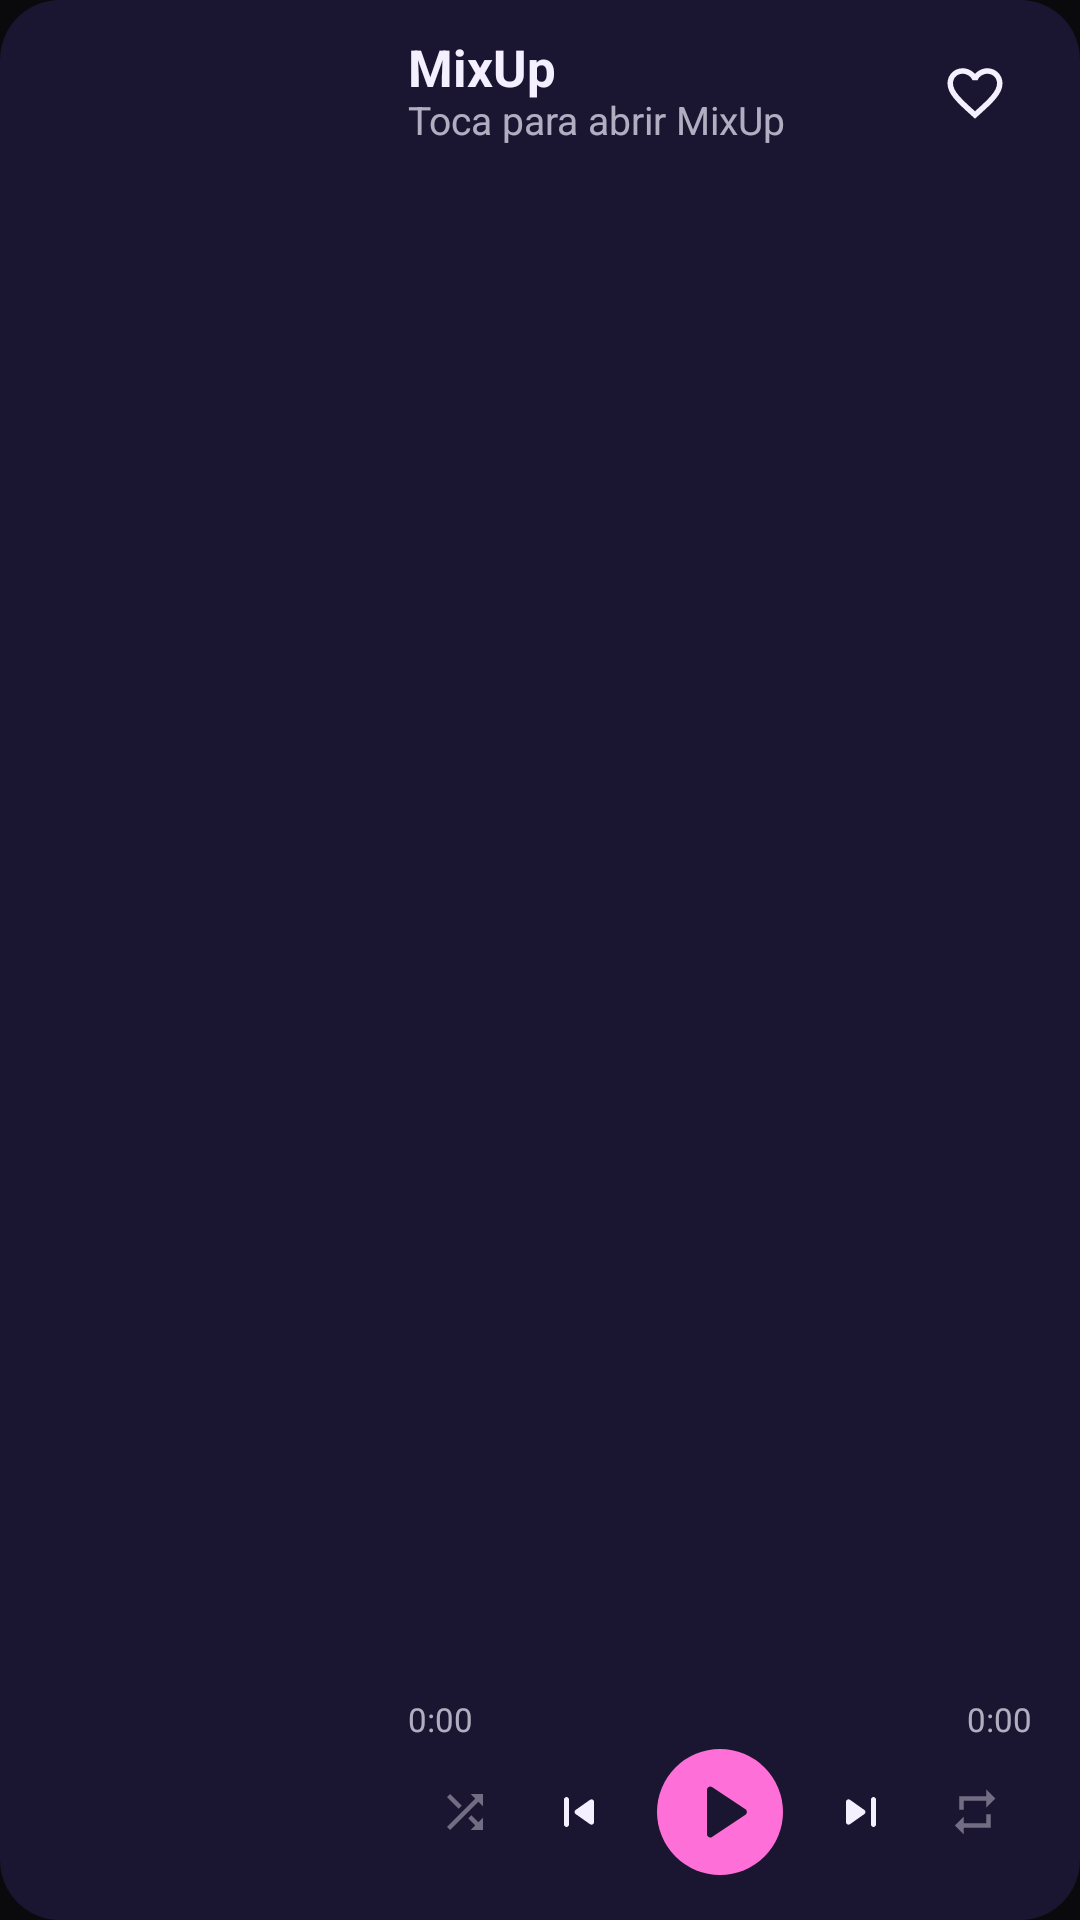

Point at icon controls on the screen. Image size 1080 × 1920, points as (x=x, y=y).
Aleatorio: (x=465, y=1812)
Anterior: (x=579, y=1812)
Me gusta: (x=975, y=93)
play: (x=727, y=1812)
Repetir: (x=975, y=1812)
Siguiente: (x=861, y=1812)
